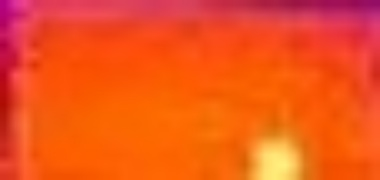Hotspot: (243, 131, 308, 180)
